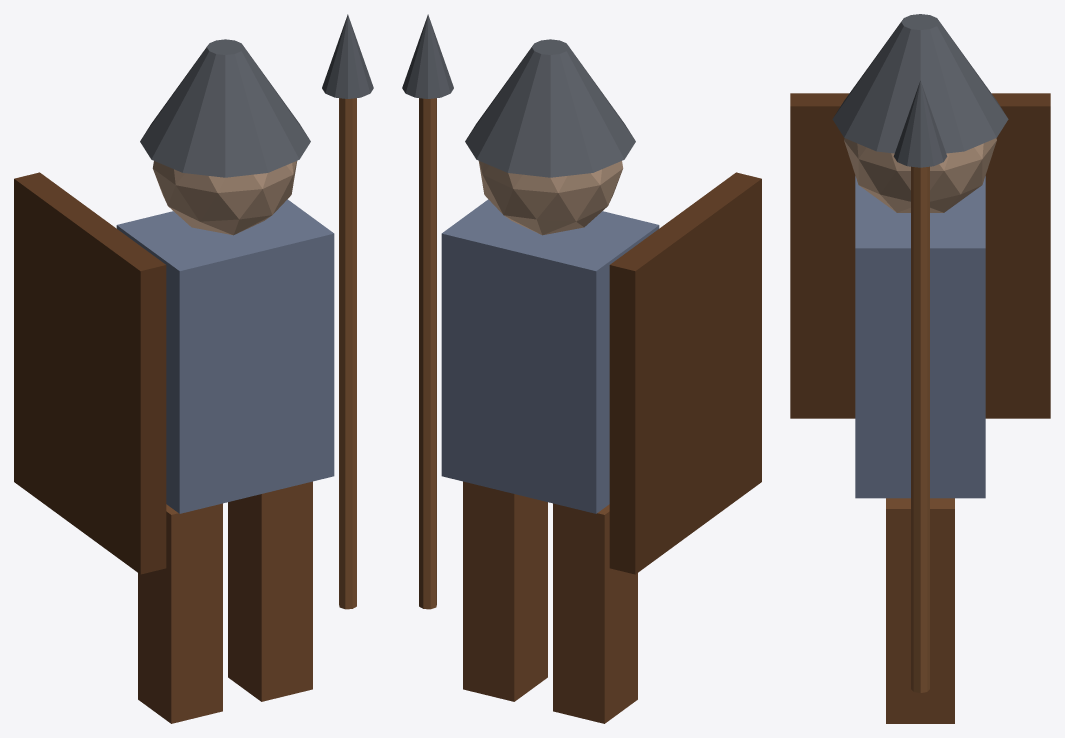
The model's file is SM_Unit_Infantry_A.fbx.
3 renders of one model, left to right at view 1: azimuth 30°, elevation 25°; view 2: azimuth 150°, elevation 25°; view 3: azimuth 270°, elevation 25°, orthographic. The views are drawn at different scales.
Parts seen in each view (by area): view 1: SM_Unit_Infantry_A_Shield, SM_Unit_Infantry_A, SM_Unit_Infantry_A_Leg_0.14, SM_Unit_Infantry_A_Leg_-0.14, SM_Unit_Infantry_A_Helmet, SM_Unit_Infantry_A_Spear, SM_Unit_Infantry_A_Head, SM_Unit_Infantry_A_SpearTip; view 2: SM_Unit_Infantry_A_Shield, SM_Unit_Infantry_A, SM_Unit_Infantry_A_Leg_0.14, SM_Unit_Infantry_A_Leg_-0.14, SM_Unit_Infantry_A_Helmet, SM_Unit_Infantry_A_Spear, SM_Unit_Infantry_A_Head, SM_Unit_Infantry_A_SpearTip; view 3: SM_Unit_Infantry_A_Shield, SM_Unit_Infantry_A, SM_Unit_Infantry_A_Helmet, SM_Unit_Infantry_A_Leg_0.14, SM_Unit_Infantry_A_Spear, SM_Unit_Infantry_A_Head, SM_Unit_Infantry_A_SpearTip.
Part boxes in pixels (x1,y1,x2,y2): SM_Unit_Infantry_A_Shield: (14, 172, 166, 574); SM_Unit_Infantry_A: (116, 199, 334, 513); SM_Unit_Infantry_A_Leg_0.14: (228, 481, 312, 701); SM_Unit_Infantry_A_Leg_-0.14: (138, 503, 222, 723); SM_Unit_Infantry_A_Helmet: (140, 39, 310, 177); SM_Unit_Infantry_A_Spear: (339, 98, 356, 609); SM_Unit_Infantry_A_Head: (152, 161, 297, 235); SM_Unit_Infantry_A_SpearTip: (322, 14, 373, 98); SM_Unit_Infantry_A_Shield: (609, 172, 761, 574); SM_Unit_Infantry_A: (441, 199, 659, 513); SM_Unit_Infantry_A_Leg_0.14: (463, 481, 547, 701); SM_Unit_Infantry_A_Leg_-0.14: (553, 503, 637, 723); SM_Unit_Infantry_A_Helmet: (465, 39, 635, 177); SM_Unit_Infantry_A_Spear: (419, 98, 436, 609); SM_Unit_Infantry_A_Head: (478, 161, 623, 235); SM_Unit_Infantry_A_SpearTip: (402, 14, 453, 98); SM_Unit_Infantry_A_Shield: (790, 93, 1050, 418); SM_Unit_Infantry_A: (855, 176, 985, 498); SM_Unit_Infantry_A_Helmet: (832, 14, 1008, 153); SM_Unit_Infantry_A_Leg_0.14: (886, 498, 954, 723); SM_Unit_Infantry_A_Spear: (911, 166, 929, 692); SM_Unit_Infantry_A_Head: (844, 138, 996, 212); SM_Unit_Infantry_A_SpearTip: (893, 80, 947, 167).
Size of what is drawn, in the model's own units: 0.91 by 0.68 by 1.93.
